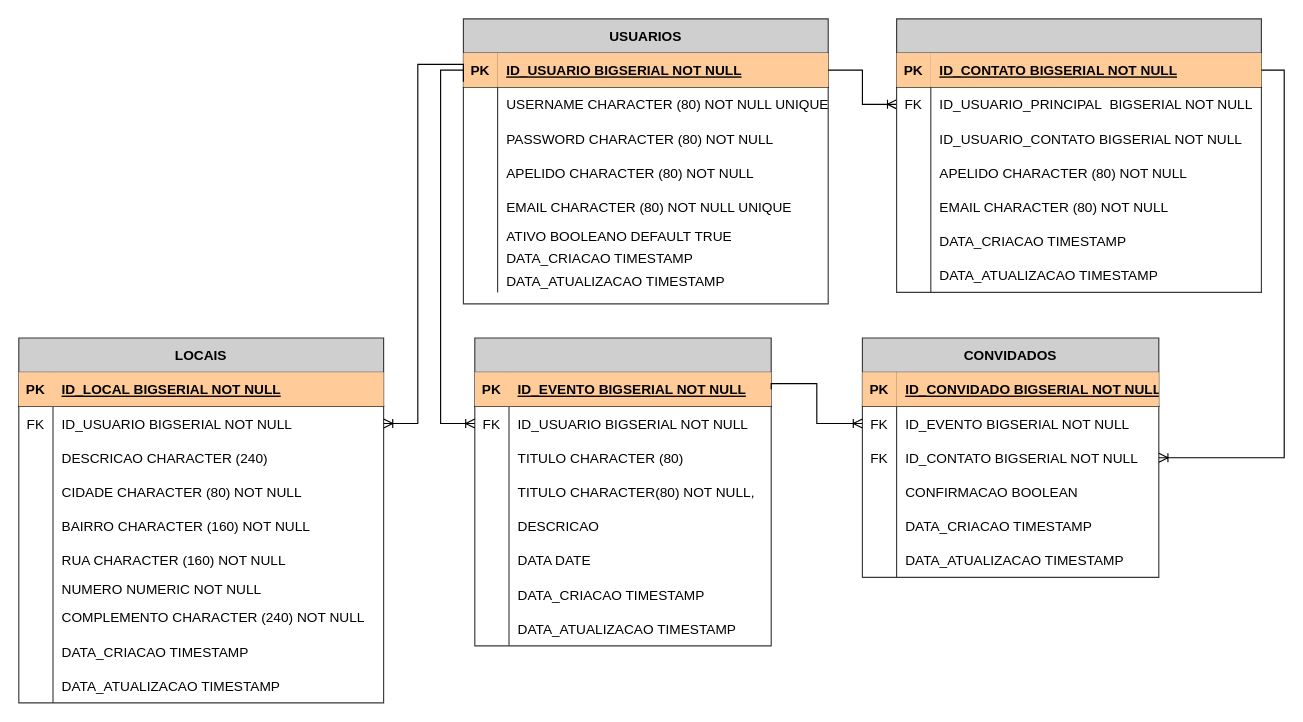
The diagram is 1303 pixels wide and 722 high, and some of its shapes have lost their labels. Here are the shapes that lost their labels. From the top down, the box of each, then its label:
(895, 18, 1261, 292): CONTATOS
(474, 337, 771, 646): EVENTOS
